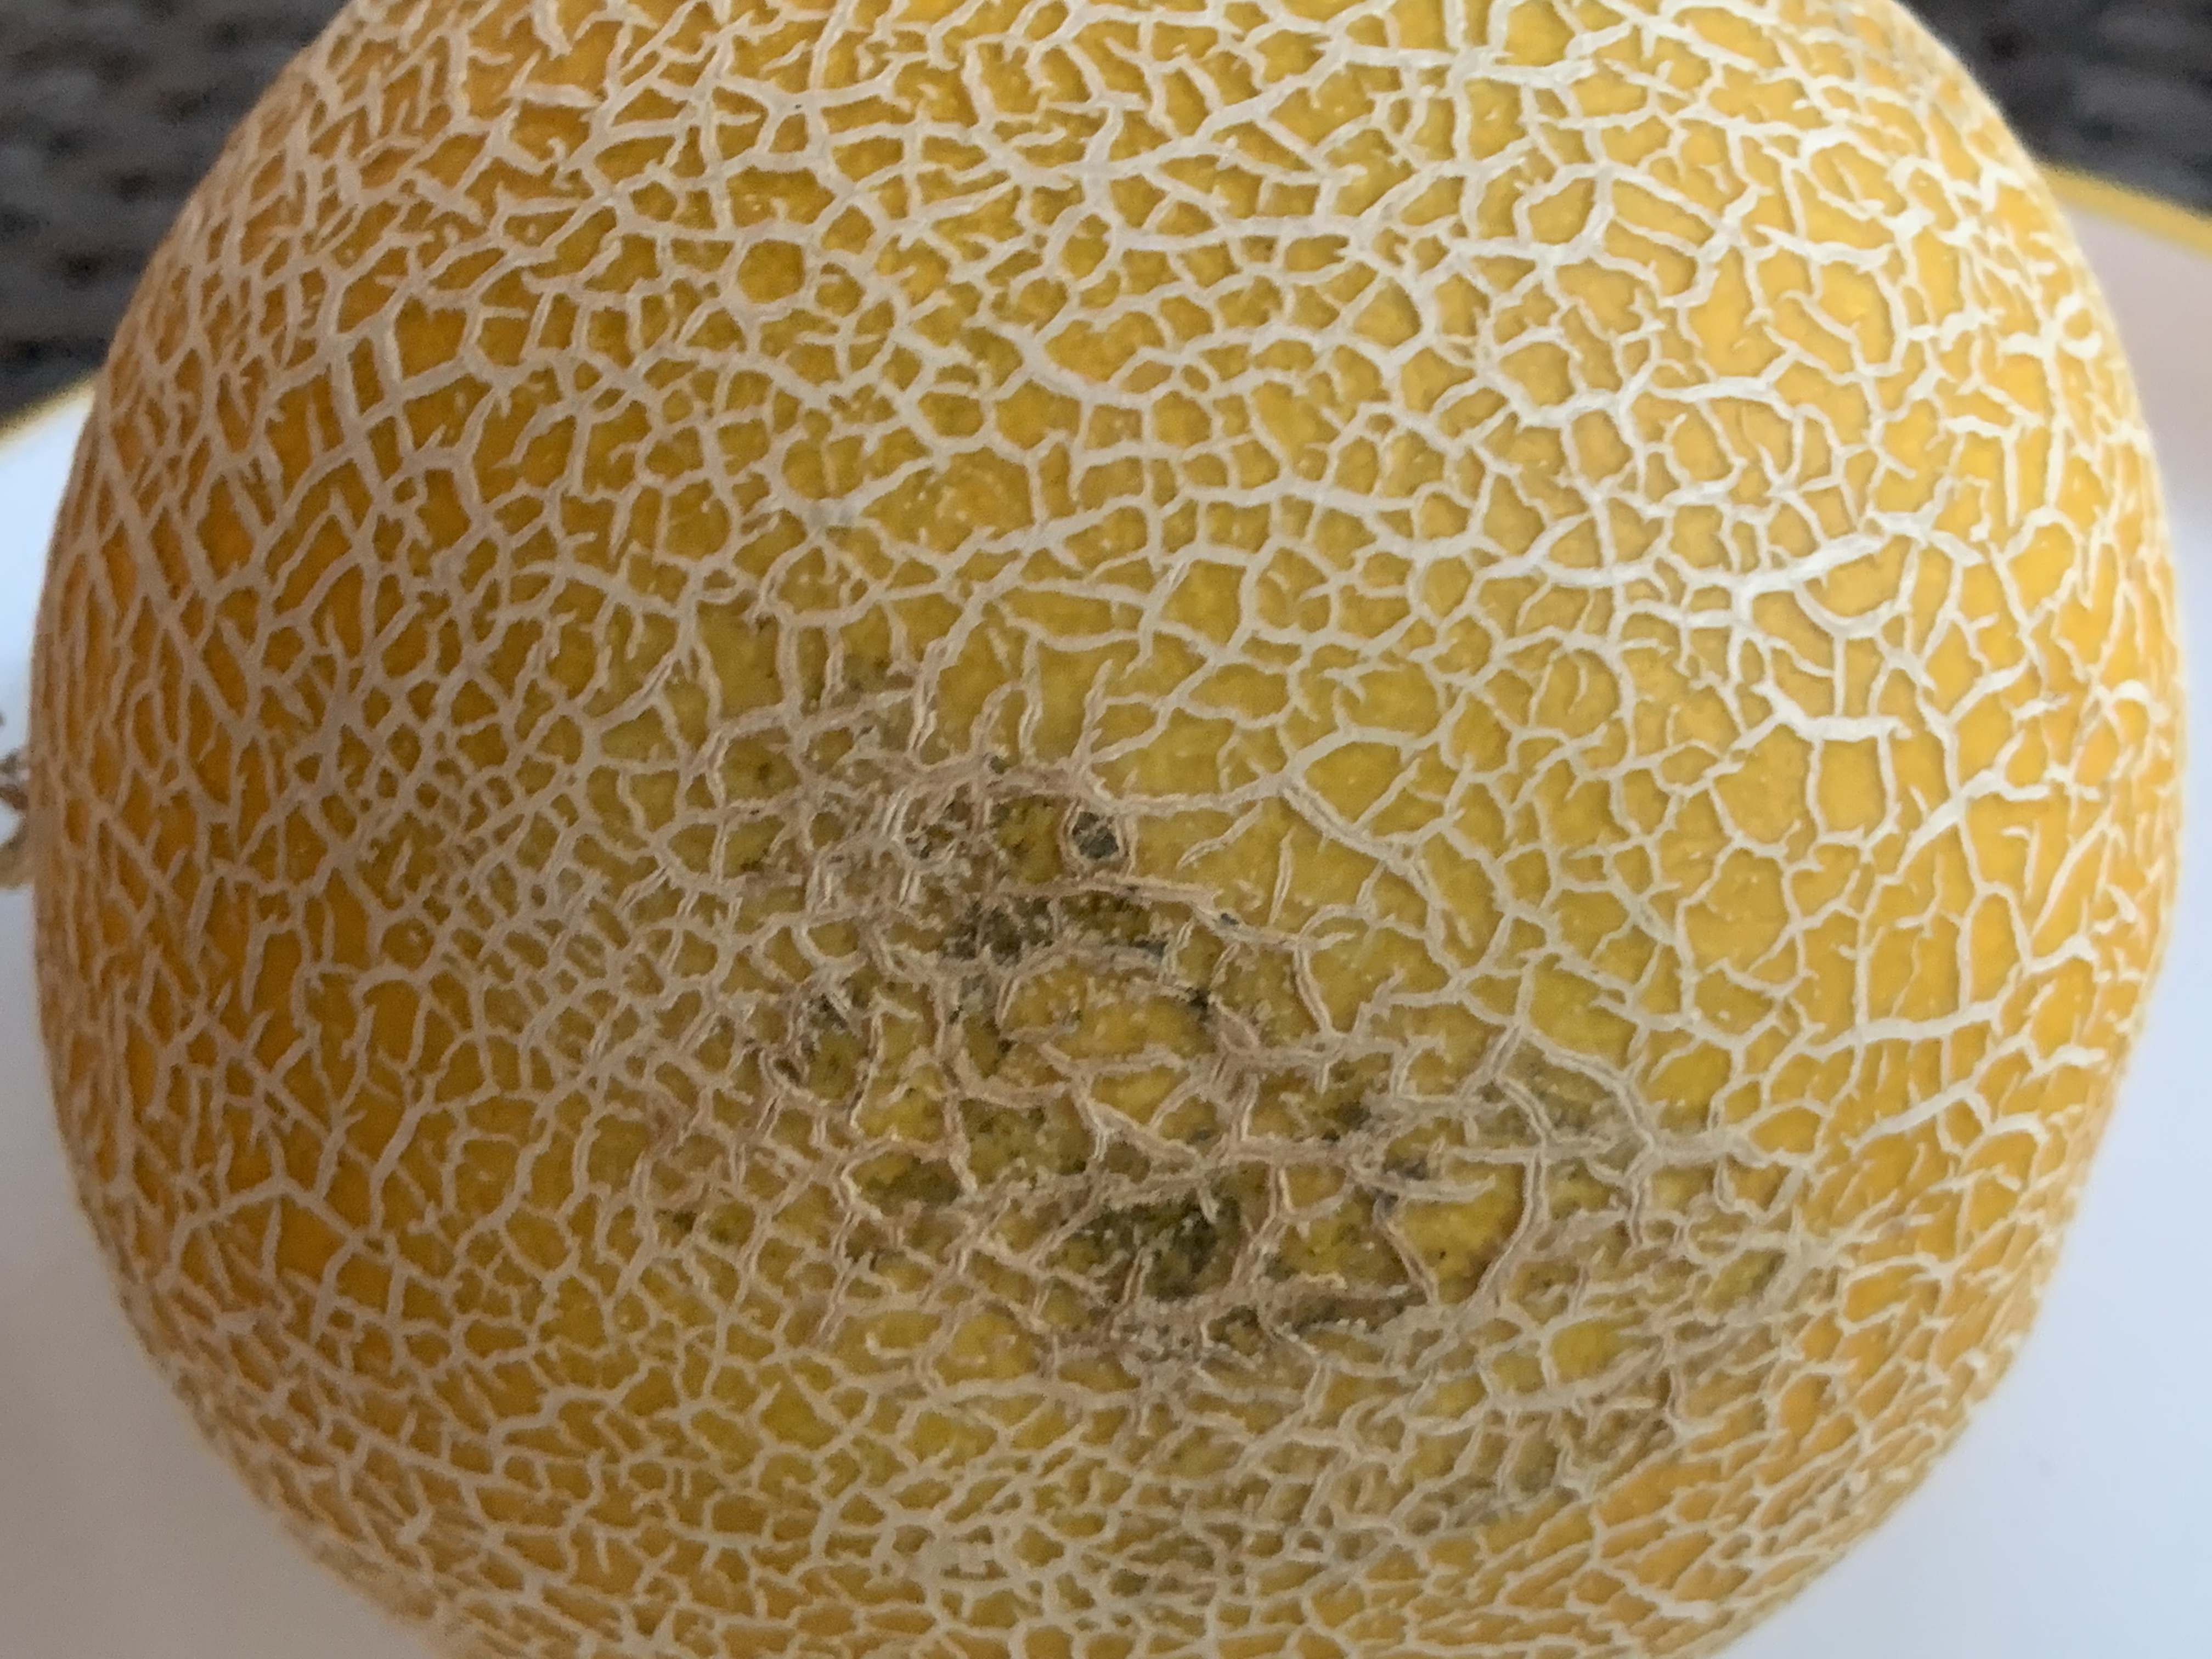galia melon: (42, 14, 2198, 1659)
